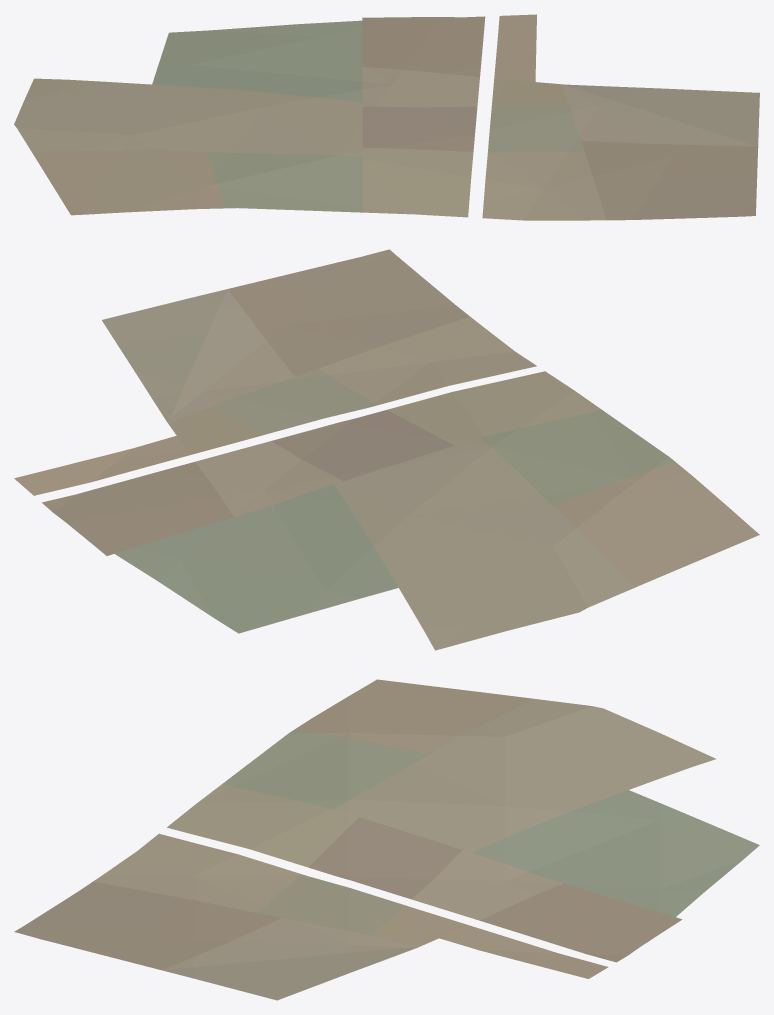
Rendered from farm_5_-4_soil.glb.
The picture shows the model from 3 angles, top to bottom: view 1: azimuth 30°, elevation 25°; view 2: azimuth 150°, elevation 25°; view 3: azimuth 270°, elevation 25°; orthographic projection. The views are drawn at different scales.
Parts seen in each view (by area): view 1: geometry_0; view 2: geometry_0; view 3: geometry_0.
Part boxes in pixels (box(x1,y1,x2,y2)): geometry_0: box(14, 14, 759, 220); geometry_0: box(14, 249, 759, 650); geometry_0: box(14, 679, 759, 1000).
Size of the model in its own units: 394 by 18.2 by 385.
